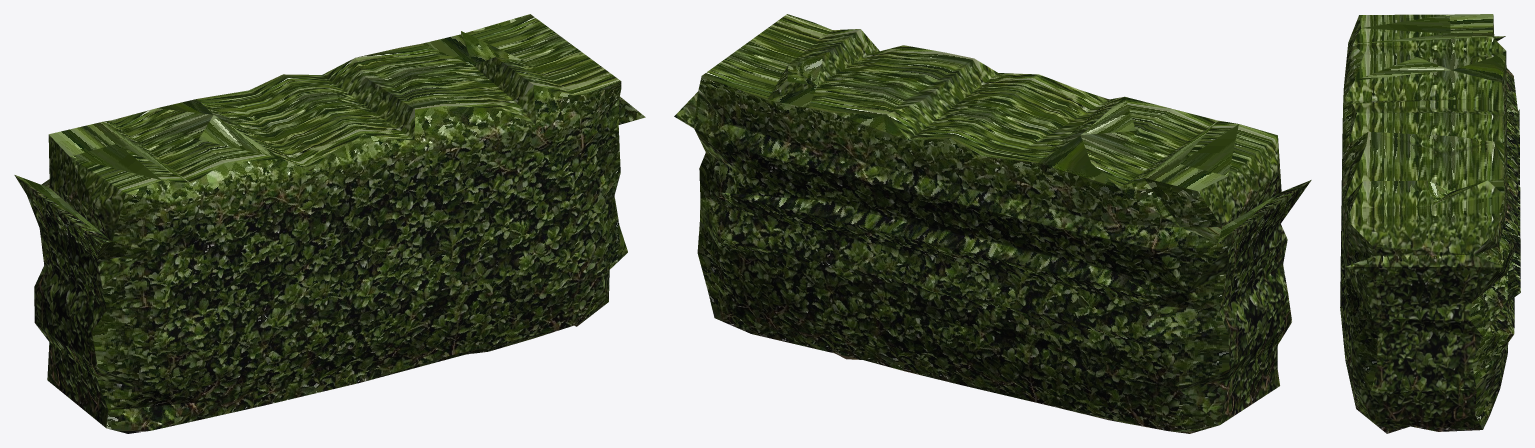
Rendered from hedge_med.glb.
3 renders of one model, left to right at view 1: azimuth 30°, elevation 25°; view 2: azimuth 150°, elevation 25°; view 3: azimuth 270°, elevation 25°, orthographic. The views are drawn at different scales.
Visible parts, largest first — view 1: hedge_med; view 2: hedge_med; view 3: hedge_med.
Boxes of the visible parts, bbox=[...] form: hedge_med: bbox=[14, 14, 645, 433]; hedge_med: bbox=[674, 14, 1311, 433]; hedge_med: bbox=[1340, 14, 1520, 433].
Bounding box in the file's own units: 2.95 × 1.4 × 0.9915.
Materials: 1 (1 with a texture image).
